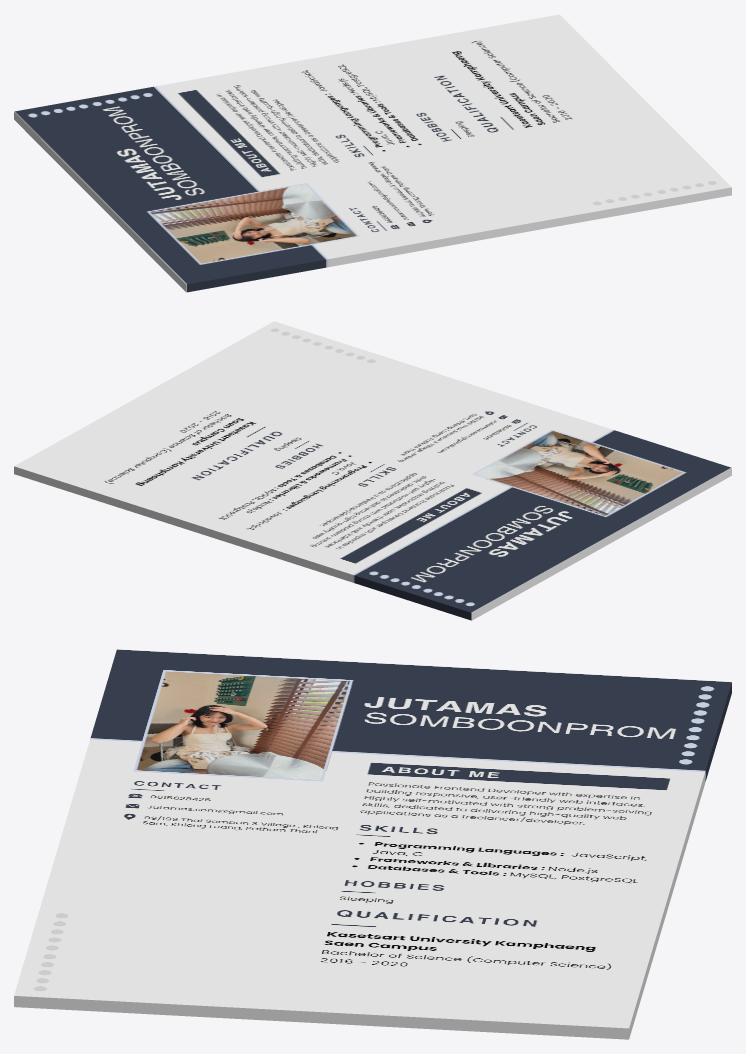
Rendered from port1.glb.
The picture shows the model from 3 angles, top to bottom: view 1: azimuth 30°, elevation 25°; view 2: azimuth 150°, elevation 25°; view 3: azimuth 270°, elevation 25°; orthographic projection. The views are drawn at different scales.
Parts seen in each view (by area): view 1: Plane.010; view 2: Plane.010; view 3: Plane.010.
Part boxes in pixels (x1,y1,x2,y2): Plane.010: (14,14,731,292); Plane.010: (14,321,731,620); Plane.010: (14,649,731,1039).
Size of the model in its own units: 2.17 by 0.03 by 1.74.
Materials: 1 (1 with a texture image).
